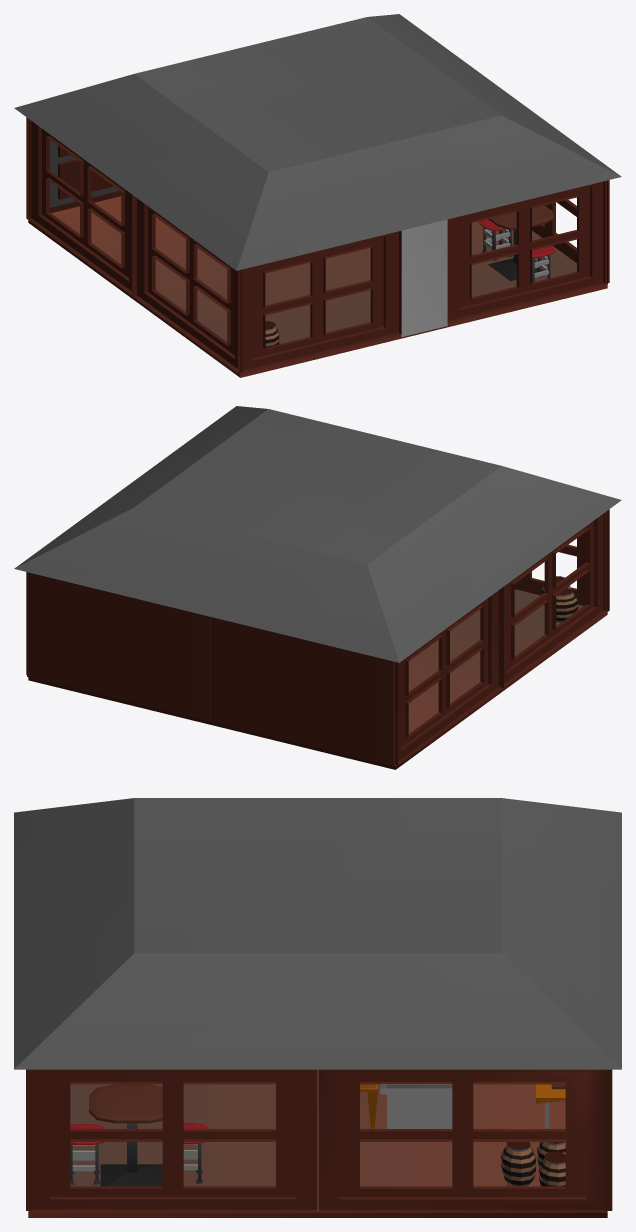
Rendered from ShopkeeperHouse.glb.
The picture shows the model from 3 angles, top to bottom: view 1: azimuth 30°, elevation 25°; view 2: azimuth 150°, elevation 25°; view 3: azimuth 270°, elevation 25°; orthographic projection. The views are drawn at different scales.
Parts seen in each view (by area): view 1: Cube.001, Wall Group, Floor, Cube, Wall Back, CoffeeTable, Stool.002, Stool.001; view 2: Cube.001, Wall Back, Wall Group, Floor, Barrel.005; view 3: Cube.001, Wall Group, Floor, CoffeeTable, BarTop, Barrel.003, Wall Back, Stool.001, Barrel.001, Stool.002, ShopkeepersTable.
Part boxes in pixels (x1=…): Cube.001: x1=14, y1=14, x2=621, y2=270; Wall Group: x1=26, y1=117, x2=609, y2=373; Floor: x1=28, y1=196, x2=607, y2=377; Cube: x1=401, y1=219, x2=447, y2=336; Wall Back: x1=29, y1=119, x2=121, y2=218; CoffeeTable: x1=488, y1=205, x2=554, y2=281; Stool.002: x1=479, y1=219, x2=512, y2=260; Stool.001: x1=532, y1=245, x2=555, y2=282; Cube.001: x1=14, y1=406, x2=621, y2=662; Wall Back: x1=27, y1=572, x2=395, y2=766; Wall Group: x1=26, y1=509, x2=609, y2=765; Floor: x1=28, y1=589, x2=607, y2=769; Barrel.005: x1=556, y1=588, x2=577, y2=624; Cube.001: x1=14, y1=798, x2=621, y2=1069; Wall Group: x1=26, y1=1069, x2=606, y2=1212; Floor: x1=28, y1=1069, x2=607, y2=1217; CoffeeTable: x1=89, y1=1084, x2=162, y2=1186; BarTop: x1=380, y1=1084, x2=452, y2=1128; Barrel.003: x1=501, y1=1142, x2=535, y2=1186; Wall Back: x1=605, y1=1069, x2=612, y2=1210; Stool.001: x1=70, y1=1124, x2=105, y2=1184; Barrel.001: x1=539, y1=1151, x2=565, y2=1186; Stool.002: x1=183, y1=1123, x2=208, y2=1183; ShopkeepersTable: x1=536, y1=1084, x2=565, y2=1142.
Bounding box in the file's own units: 16.8 × 6.7 × 16.8.
16 materials, 16 textured.
